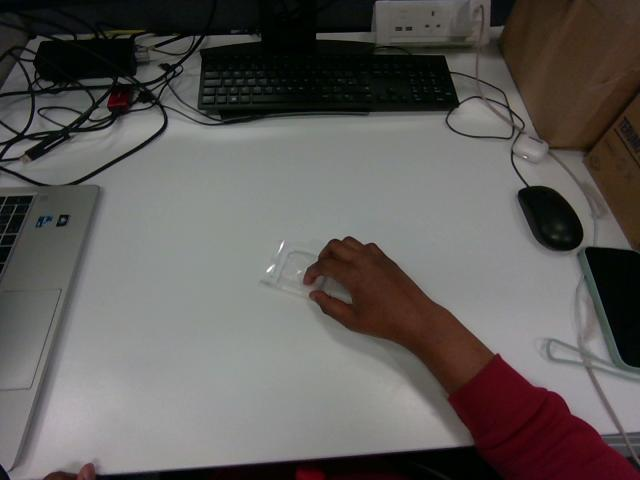gauze: (262, 241, 351, 302)
